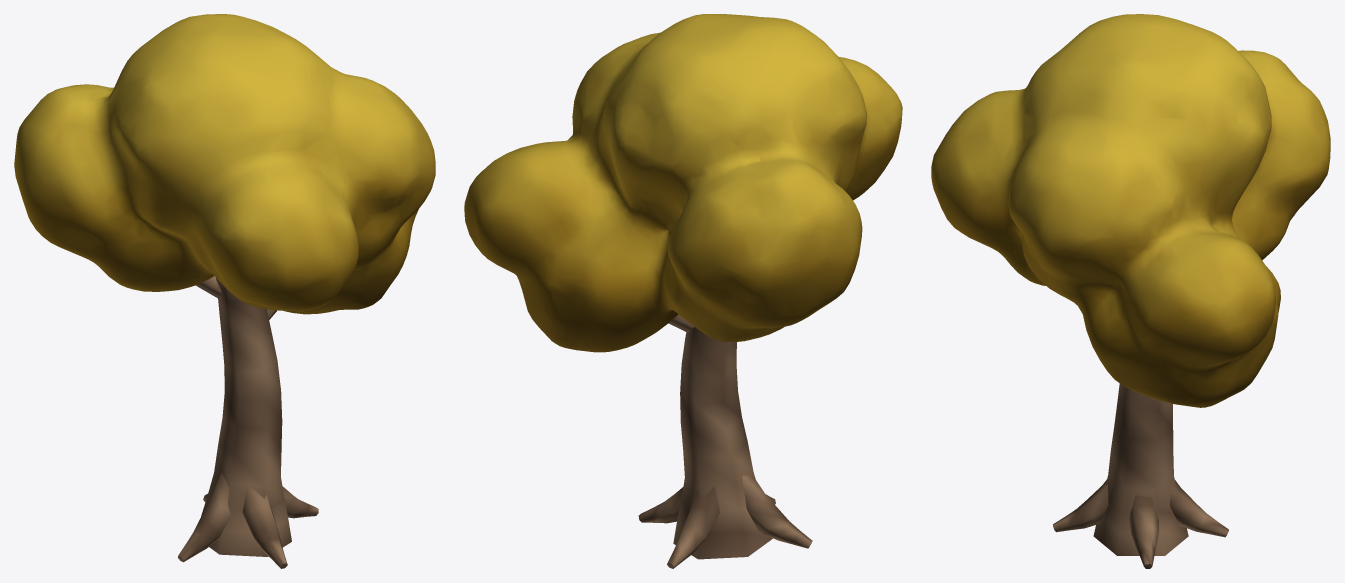
Rendered from SM_StylizedAutumnTree.fbx.
3 renders of one model, left to right at view 1: azimuth 30°, elevation 25°; view 2: azimuth 150°, elevation 25°; view 3: azimuth 270°, elevation 25°, orthographic. The views are drawn at different scales.
Visible parts, largest first — view 1: SM_StylizedAutumnTree; view 2: SM_StylizedAutumnTree; view 3: SM_StylizedAutumnTree.
Part boxes in pixels (x1,y1,x2,y2): SM_StylizedAutumnTree: (14, 14, 435, 568); SM_StylizedAutumnTree: (464, 14, 902, 568); SM_StylizedAutumnTree: (931, 14, 1330, 568).
Size of what is drawn, in the model's own units: 4.97 by 6.39 by 4.61.
